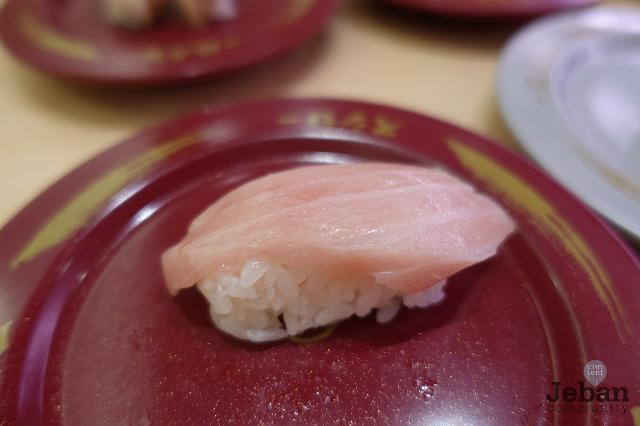janred: (50, 131, 620, 426), (5, 0, 340, 67), (323, 0, 577, 36)
janwhite: (498, 16, 640, 201)
